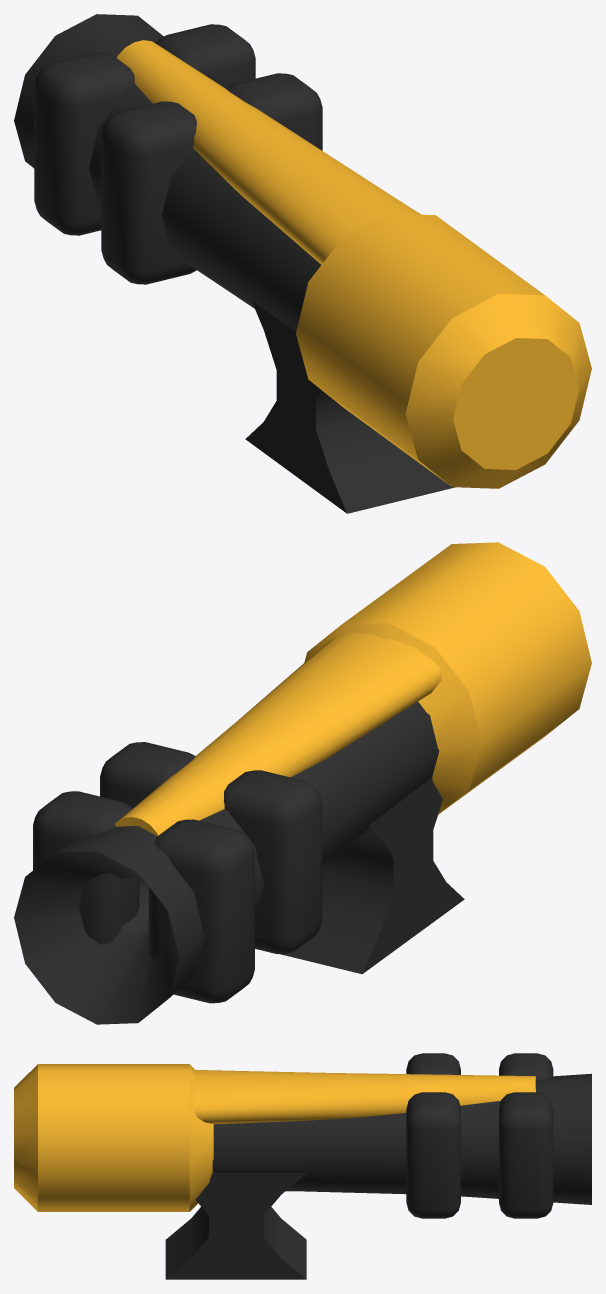
File: Tiger.FBX
3 views of the same model, one above another, from view 1: azimuth 30°, elevation 25°; view 2: azimuth 150°, elevation 25°; view 3: azimuth 270°, elevation 25° (orthographic). The views are drawn at different scales.
Visible parts, largest first — view 1: Tiger; view 2: Tiger; view 3: Tiger.
Part boxes in pixels (x1=…): Tiger: x1=14, y1=14, x2=591, y2=513; Tiger: x1=14, y1=542, x2=591, y2=1024; Tiger: x1=14, y1=1053, x2=591, y2=1279.
Size of the model in its own units: 23.42 by 85.32 by 30.76.
